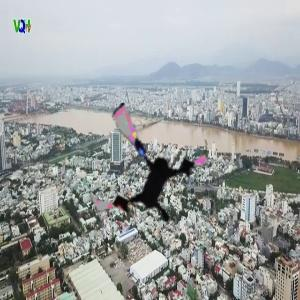drone: (78, 100, 216, 238)
